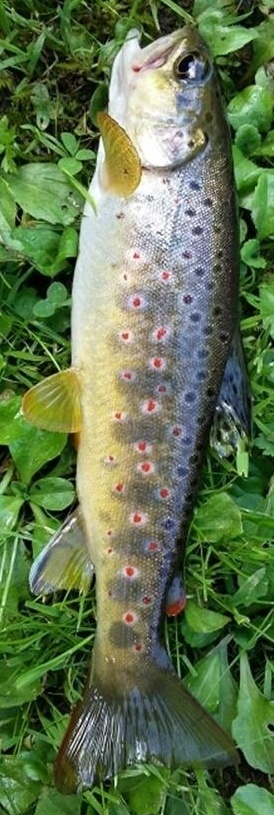Salmo trutta subsp. fario: (20, 20, 254, 795)
